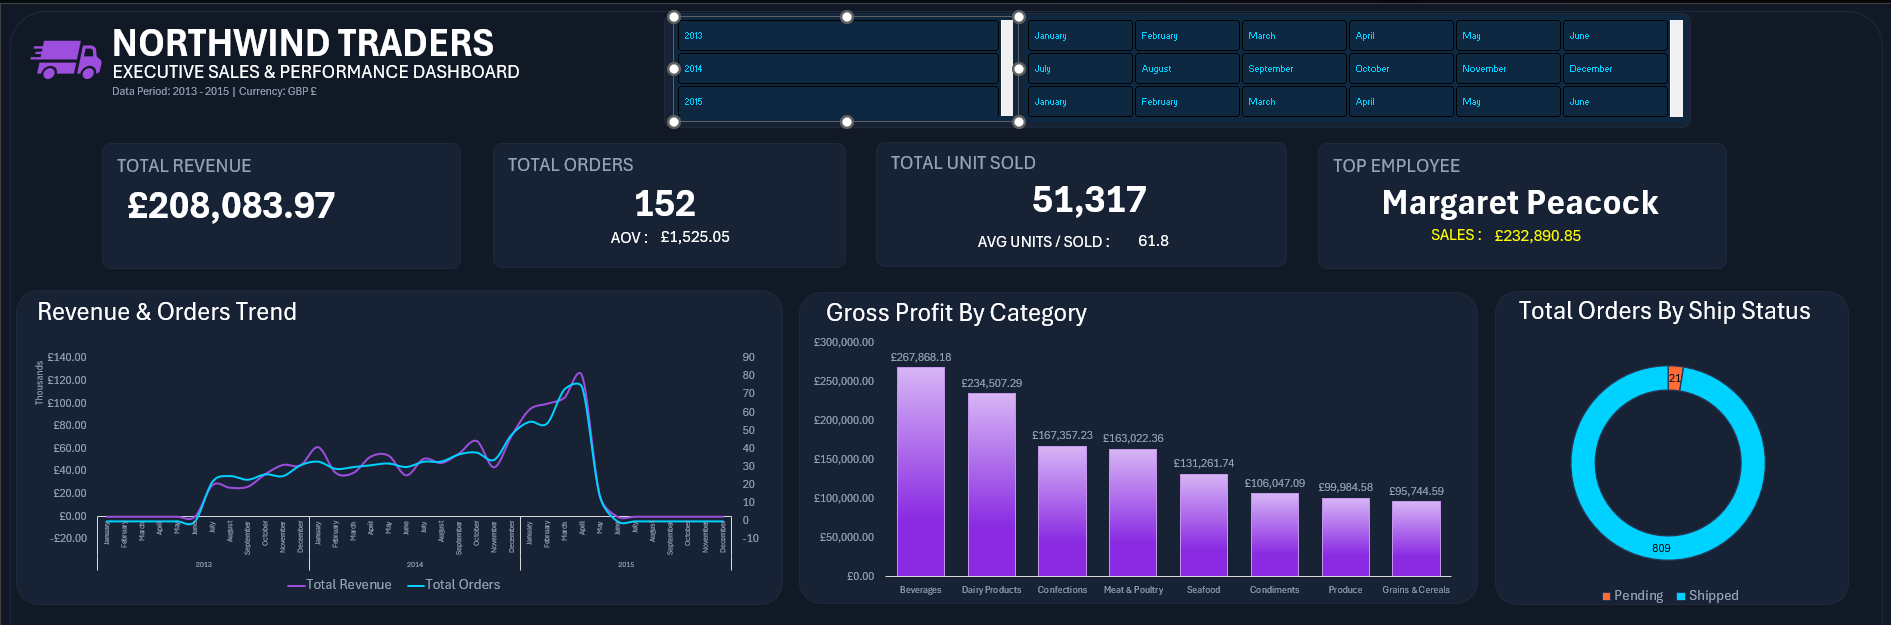

The dashboard page shown, as its layout file describes it:
{"tool":"powerbi","page":{"name":"Executive Overview","canvas":[1920,1080],"ordinal":0},"visuals":[{"type":"cardVisual","title":"TOTAL REVENUE","fields":{"Data":["_Measures.Total Revenue"]},"box":[60,170,432,150],"z":0},{"type":"cardVisual","title":"TOTAL ORDERS","fields":{"Data":["_Measures.Total Orders"]},"box":[516,170,432,150],"z":1000},{"type":"cardVisual","title":"TOTAL UNITS SOLD","fields":{"Data":["_Measures.Total Units Sold"]},"box":[972,170,432,150],"z":2000},{"type":"cardVisual","title":"AVERAGE ORDER VALUE","fields":{"Data":["_Measures.AOV"]},"box":[1428,170,432,150],"z":3000},{"type":"lineClusteredColumnComboChart","title":"MONTHLY ORDERS vs REVENUE","fields":{"Category":["Calendar.Month"],"Y":["_Measures.Total Orders"],"Y2":["_Measures.Total Revenue"]},"box":[60,344,888,420],"z":4000},{"type":"textbox","box":[60,14,820,142],"z":5000},{"type":"slicer","title":"YEAR","fields":{"Values":["Calendar.Year"]},"box":[1236,34,300,96],"z":6000},{"type":"slicer","title":"MONTH","fields":{"Values":["Calendar.Month"]},"box":[1560,34,300,96],"z":7000},{"type":"clusteredBarChart","title":"REVENUE BY CATEGORY","fields":{"Category":["categories.categoryName"],"Y":["_Measures.Total Revenue"]},"box":[972,344,888,420],"z":8000},{"type":"donutChart","title":"ORDERS BY DELIVERY STATUS","fields":{"Category":["orders.Delivery Performance"],"Y":["_Measures.Total Orders"]},"box":[972,788,888,262],"z":9000},{"type":"cardVisual","title":"TOTAL DISCOUNT","fields":{"Data":["_Measures.Total Discount Amount"]},"box":[60,931,432,119],"z":10000},{"type":"cardVisual","title":"ACTIVE PRODUCTS","fields":{"Data":["_Measures.Active Products"]},"box":[60,788,432,119],"z":11000},{"type":"cardVisual","title":"TOP EMPLOYEE","fields":{"Data":["_Measures.Top Employee Name"]},"box":[516,788,432,119],"z":12000},{"type":"cardVisual","title":"TOP EMPLOYEE SALES","fields":{"Data":["_Measures.Top Employee Sales"]},"box":[516,931,432,119],"z":13000}]}

Visuals, with their boxes on the page's 1920x1080 design canvas (x1, y1, x2, y2). These are canvas units, not pixel positions in the 1891x625 screenshot, which may show the page scaled, cropped or inside an application window:
"TOTAL REVENUE" cardVisual: rect(60, 170, 492, 320)
"TOTAL ORDERS" cardVisual: rect(516, 170, 948, 320)
"TOTAL UNITS SOLD" cardVisual: rect(972, 170, 1404, 320)
"AVERAGE ORDER VALUE" cardVisual: rect(1428, 170, 1860, 320)
"MONTHLY ORDERS vs REVENUE" lineClusteredColumnComboChart: rect(60, 344, 948, 764)
textbox: rect(60, 14, 880, 156)
"YEAR" slicer: rect(1236, 34, 1536, 130)
"MONTH" slicer: rect(1560, 34, 1860, 130)
"REVENUE BY CATEGORY" clusteredBarChart: rect(972, 344, 1860, 764)
"ORDERS BY DELIVERY STATUS" donutChart: rect(972, 788, 1860, 1050)
"TOTAL DISCOUNT" cardVisual: rect(60, 931, 492, 1050)
"ACTIVE PRODUCTS" cardVisual: rect(60, 788, 492, 907)
"TOP EMPLOYEE" cardVisual: rect(516, 788, 948, 907)
"TOP EMPLOYEE SALES" cardVisual: rect(516, 931, 948, 1050)
